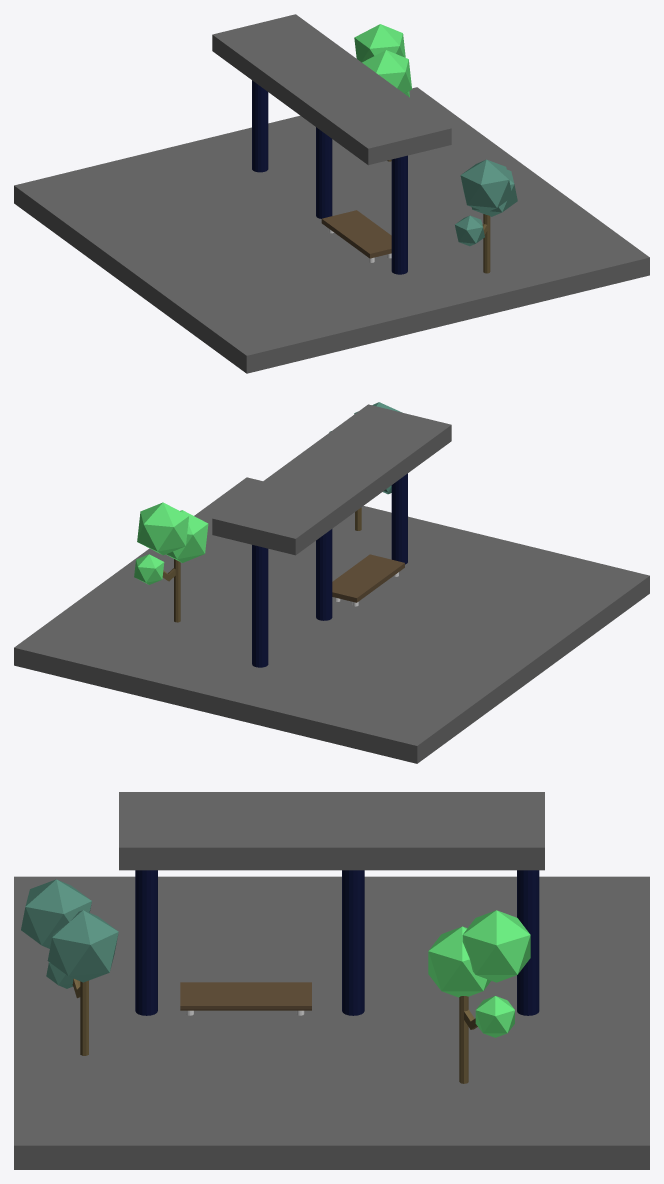
The model's file is platform.fbx.
The picture shows the model from 3 angles, top to bottom: view 1: azimuth 30°, elevation 25°; view 2: azimuth 150°, elevation 25°; view 3: azimuth 270°, elevation 25°; orthographic projection. The views are drawn at different scales.
Parts seen in each view (by area): view 1: Plane, Icosphere; view 2: Plane, Icosphere; view 3: Plane, Icosphere.
Boxes of the visible parts, x1,y1,x2,y2 form: Plane: (14, 14, 649, 373); Icosphere: (354, 24, 517, 273); Plane: (14, 404, 649, 763); Icosphere: (134, 402, 401, 622); Plane: (14, 792, 649, 1169); Icosphere: (21, 879, 530, 1083).
Size of the model in its own units: 965 by 361 by 965.
